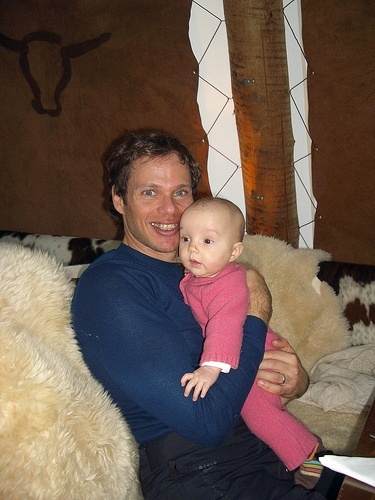head: (111, 130, 200, 253), (166, 190, 252, 281)
person: (66, 152, 345, 457)
